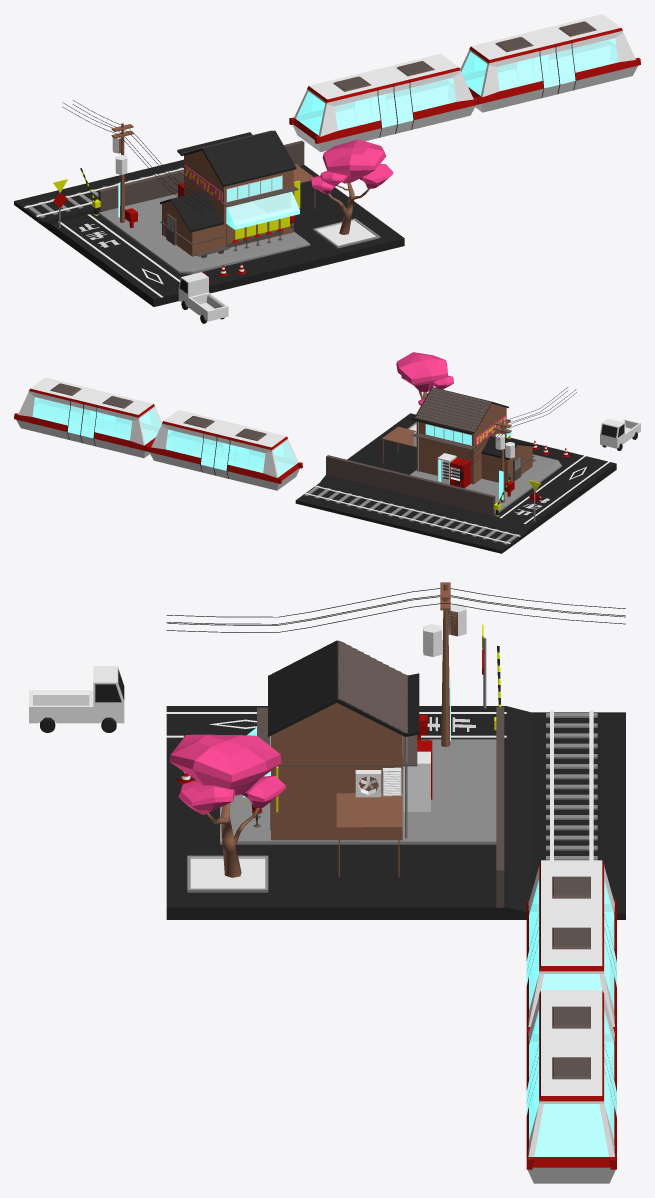
Rendered from paysage2.gltf.
The picture shows the model from 3 angles, top to bottom: view 1: azimuth 30°, elevation 25°; view 2: azimuth 150°, elevation 25°; view 3: azimuth 270°, elevation 25°; orthographic projection. The views are drawn at different scales.
Visible parts, largest first — view 1: wagon, road, house, trottoir.001, fleats, wall, car, earth, cable, roadstrip, three, hautvent (+3 smaller); view 2: wagon, road, house, wall, trottoir.001, fleats, repeatRails, car, rails, machineBoisson2, cable, roadstrip (+3 smaller); view 3: road, wagon, house, trottoir.001, fleats, car, repeatRails, earth, cable, wall, machineBoisson1, rails (+4 smaller).
Boxes of the visible parts, left/top/right/bottom form: wagon: left=289, top=14, right=640, bottom=151; road: left=14, top=159, right=404, bottom=306; house: left=160, top=130, right=315, bottom=256; trottoir.001: left=99, top=193, right=310, bottom=274; fleats: left=310, top=139, right=393, bottom=194; wall: left=98, top=140, right=304, bottom=212; car: left=178, top=272, right=228, bottom=321; earth: left=313, top=218, right=380, bottom=248; cable: left=62, top=100, right=212, bottom=212; roadstrip: left=58, top=214, right=179, bottom=297; three: left=328, top=182, right=370, bottom=234; hautvent: left=235, top=216, right=289, bottom=239; wagon: left=14, top=377, right=302, bottom=490; road: left=295, top=413, right=616, bottom=553; house: left=381, top=387, right=534, bottom=484; wall: left=326, top=455, right=495, bottom=515; trottoir.001: left=410, top=454, right=561, bottom=514; fleats: left=396, top=352, right=453, bottom=405; repeatRails: left=304, top=485, right=519, bottom=544; car: left=600, top=418, right=640, bottom=448; rails: left=303, top=485, right=520, bottom=544; machineBoisson2: left=450, top=457, right=470, bottom=488; cable: left=453, top=387, right=576, bottom=472; roadstrip: left=499, top=455, right=609, bottom=523; road: left=166, top=706, right=625, bottom=919; wagon: left=526, top=860, right=616, bottom=1183; house: left=243, top=640, right=419, bottom=877; trottoir.001: left=220, top=739, right=496, bottom=844; fleats: left=169, top=734, right=285, bottom=815; car: left=29, top=666, right=124, bottom=723; repeatRails: left=546, top=713, right=597, bottom=860; earth: left=187, top=855, right=268, bottom=892; cable: left=166, top=588, right=625, bottom=632; wall: left=496, top=707, right=504, bottom=907; machineBoisson1: left=403, top=751, right=430, bottom=811; rails: left=550, top=710, right=593, bottom=860.
Bounding box in the file's own units: 40.95 × 7.04 × 21.43.
